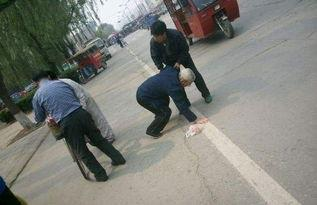Fall-Detected: (128, 62, 209, 138)
